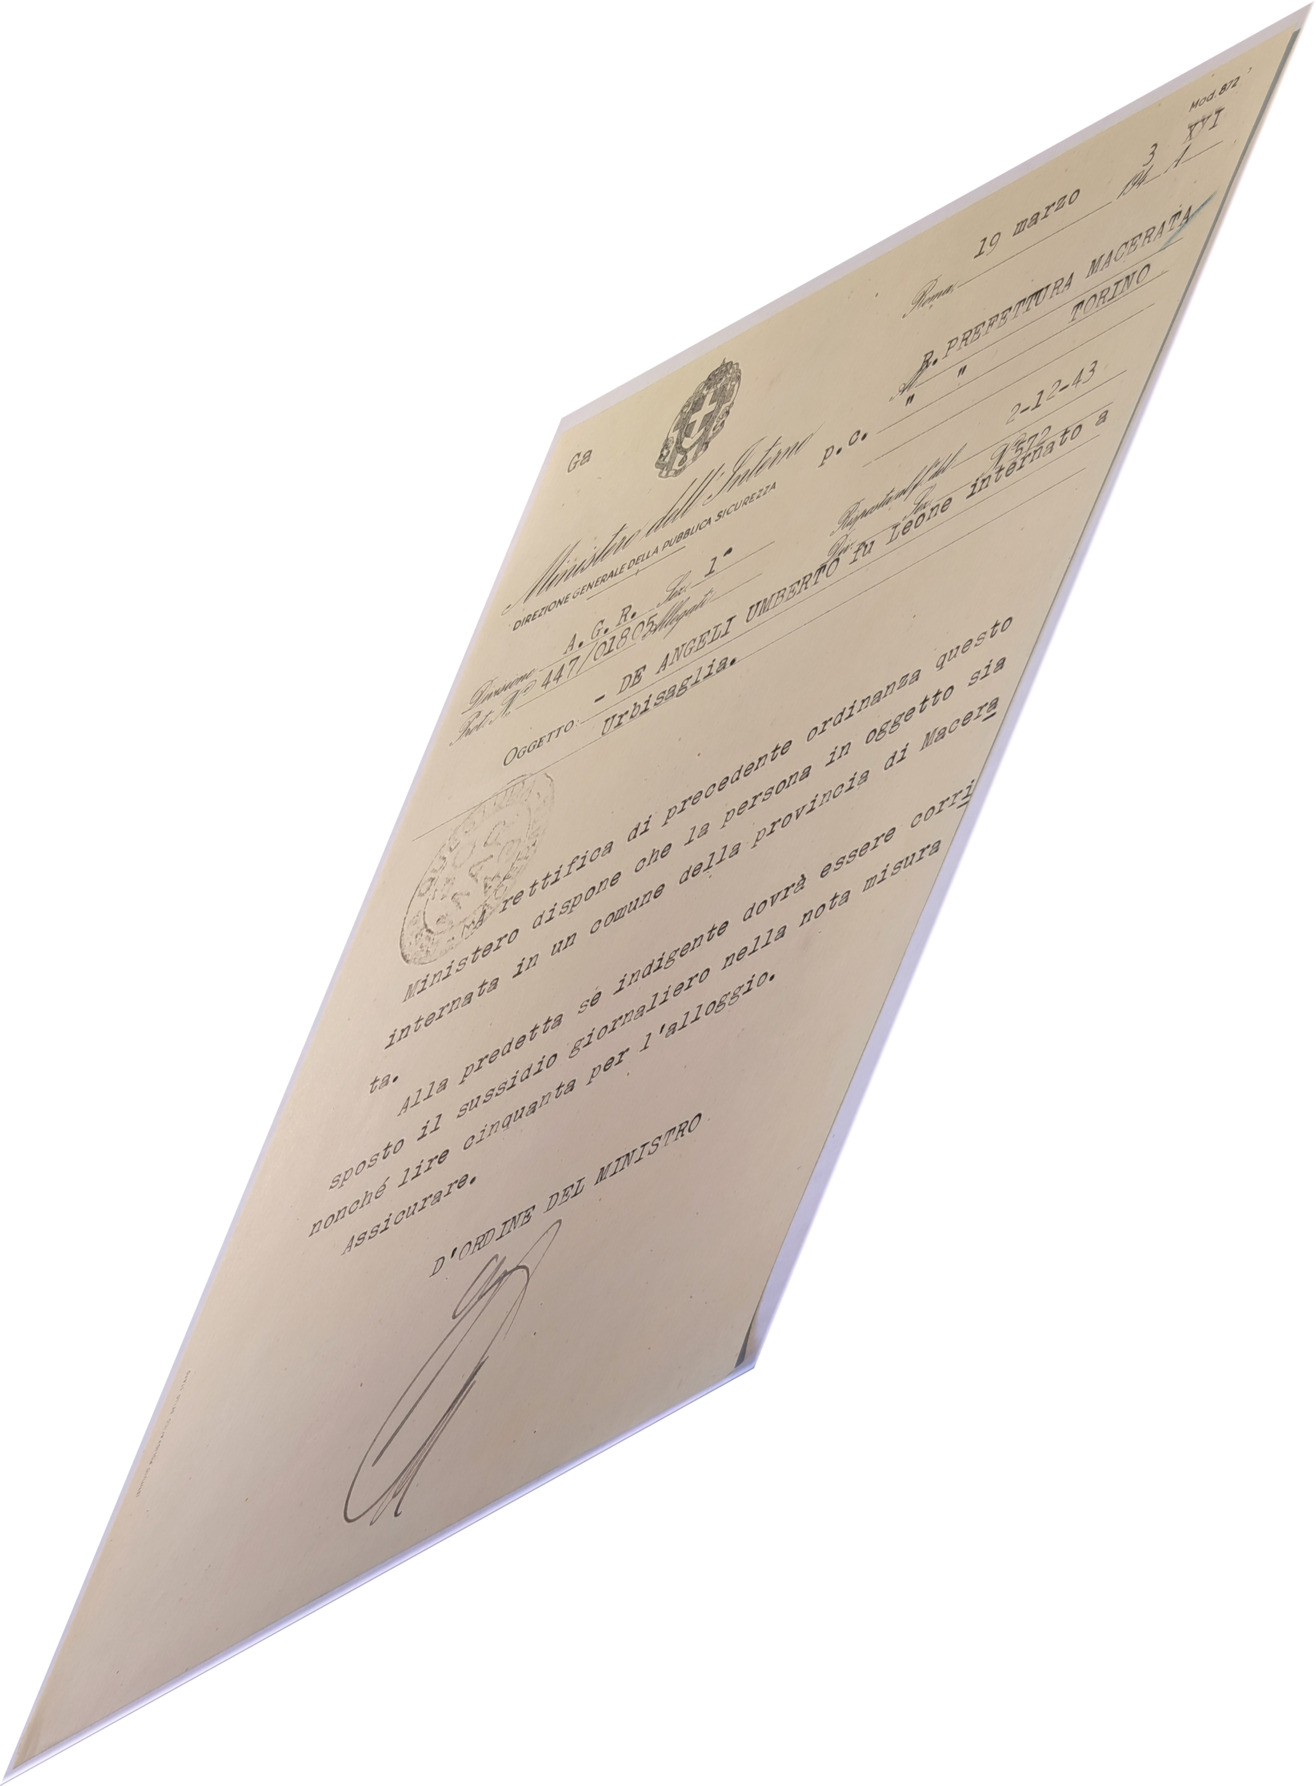stamp: (397, 770, 560, 964)
